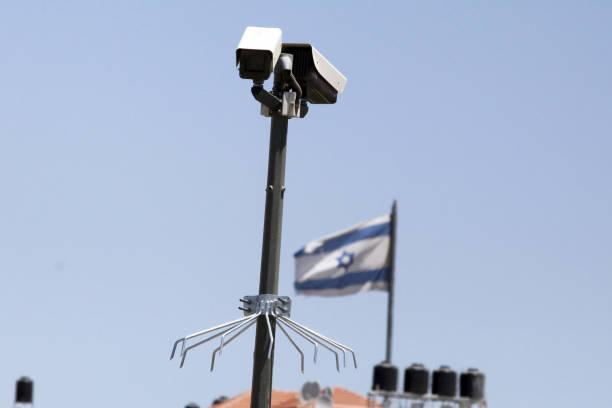camera: (281, 22, 357, 128), (225, 15, 287, 99)
